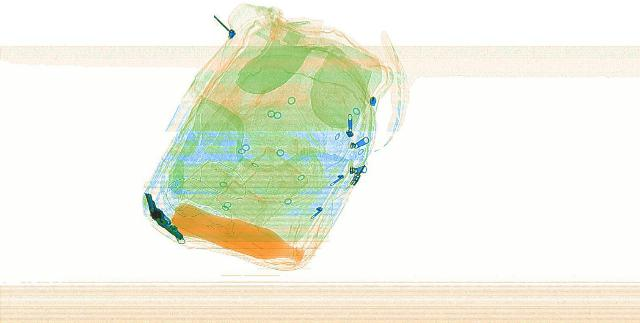Gun: (136, 191, 187, 244)
